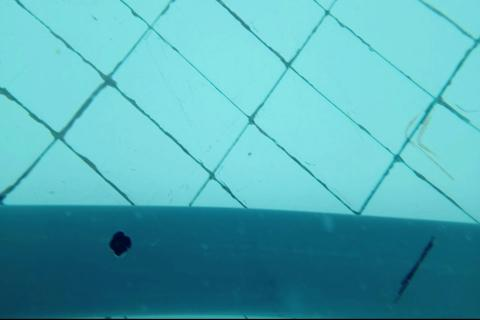kebocoran: (110, 229, 131, 258)
keretakan: (394, 234, 436, 302)
